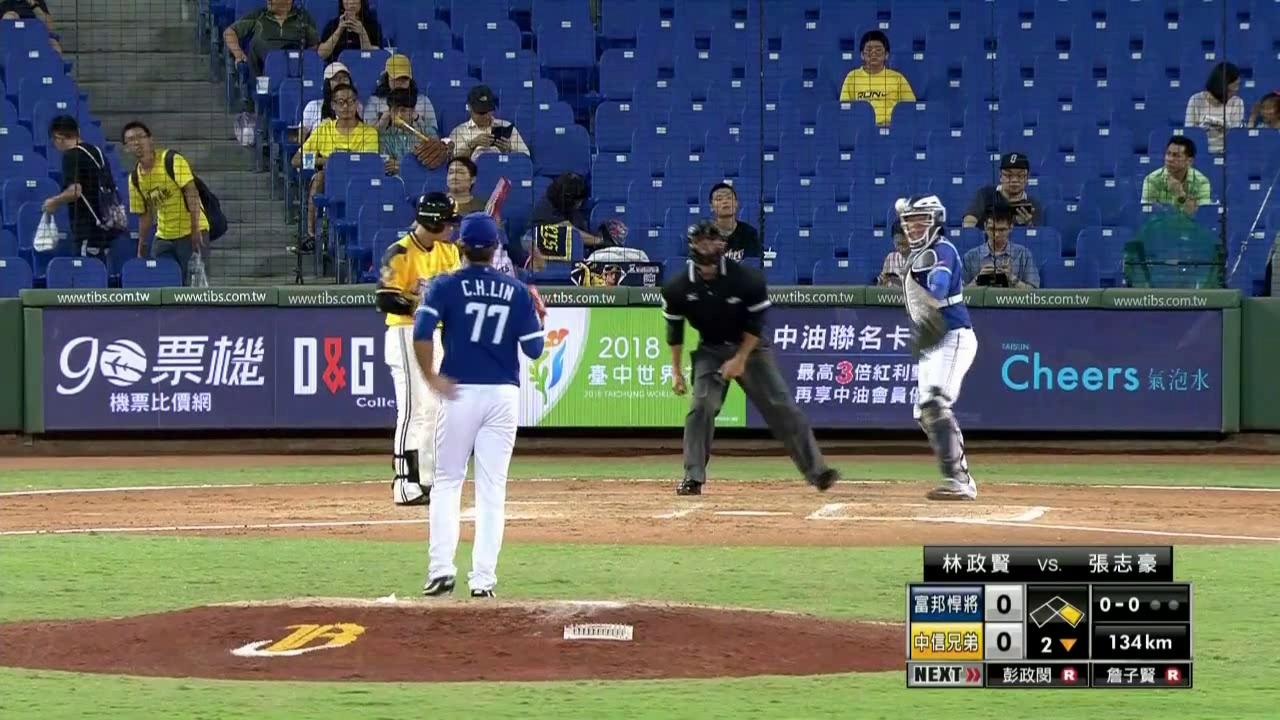ball: (892, 194, 911, 214)
base: (1027, 591, 1086, 631)
bat: (459, 172, 514, 269)
out: (1148, 590, 1185, 619)
score1: (987, 588, 1021, 622)
score2: (986, 626, 1022, 658)
session: (1026, 632, 1087, 659)
speed: (1093, 626, 1186, 661)
strikeball: (1094, 589, 1145, 619)
